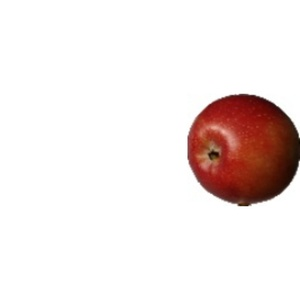maçã braeburn: (186, 91, 300, 206)
